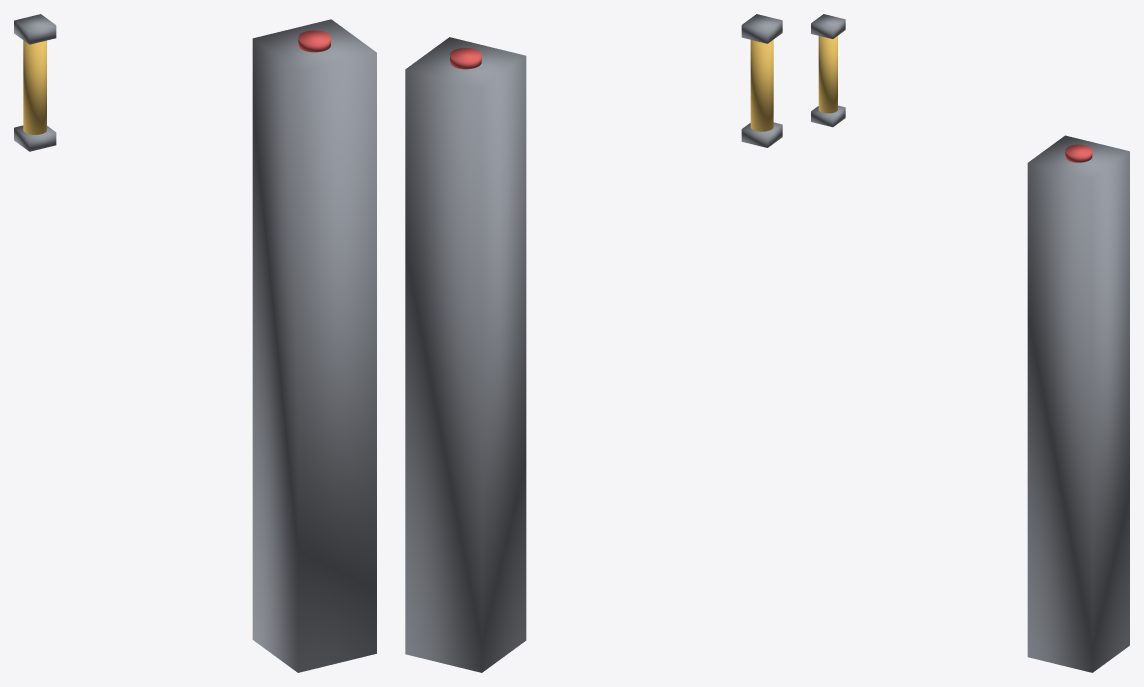
The model's file is test_props.glb.
3 views of the same model, side by side, from view 1: azimuth 30°, elevation 25°; view 2: azimuth 150°, elevation 25°; view 3: azimuth 330°, elevation 25° (orthographic). The views are drawn at different scales.
Visible parts, largest first — view 1: TestButton_Pedestal, TestHandle, TestHandle_MountTop, TestHandle_MountBottom, TestButton; view 2: TestButton_Pedestal, TestHandle, TestHandle_MountTop, TestHandle_MountBottom, TestButton; view 3: TestButton_Pedestal, TestHandle, TestHandle_MountTop, TestHandle_MountBottom.
Part boxes in pixels (x1=…): TestButton_Pedestal: x1=252, y1=19, x2=376, y2=672; TestHandle: x1=23, y1=40, x2=46, y2=134; TestHandle_MountTop: x1=14, y1=14, x2=56, y2=44; TestHandle_MountBottom: x1=14, y1=125, x2=56, y2=151; TestButton: x1=298, y1=30, x2=330, y2=52; TestButton_Pedestal: x1=405, y1=37, x2=526, y2=672; TestHandle: x1=750, y1=40, x2=773, y2=131; TestHandle_MountTop: x1=741, y1=14, x2=782, y2=43; TestHandle_MountBottom: x1=741, y1=122, x2=782, y2=147; TestButton: x1=450, y1=48, x2=481, y2=69; TestButton_Pedestal: x1=1027, y1=135, x2=1129, y2=672; TestHandle: x1=818, y1=36, x2=837, y2=113; TestHandle_MountTop: x1=811, y1=14, x2=845, y2=38; TestHandle_MountBottom: x1=811, y1=105, x2=845, y2=127.
Bounding box in the file's own units: 0.5251 × 1.02 × 0.12.
